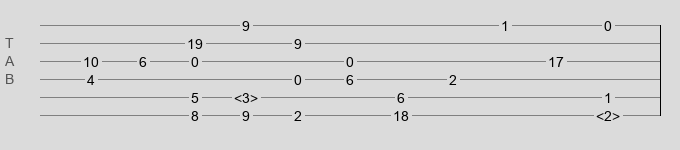0: (191, 54, 199, 64), (294, 72, 302, 82), (346, 54, 354, 64), (604, 18, 612, 28)
1: (501, 18, 509, 28), (604, 90, 612, 100)
10: (83, 54, 99, 64)
17: (548, 54, 564, 64)
18: (393, 108, 409, 118)
19: (187, 36, 203, 46)
2: (294, 108, 302, 118), (449, 72, 457, 82)
4: (87, 72, 95, 82)
5: (191, 90, 199, 100)
6: (139, 54, 147, 64), (346, 72, 354, 82), (397, 90, 405, 100)
8: (191, 108, 199, 118)
9: (242, 108, 250, 118), (242, 18, 250, 28), (294, 36, 302, 46)
harmonic: (234, 90, 258, 100), (596, 108, 620, 118)
